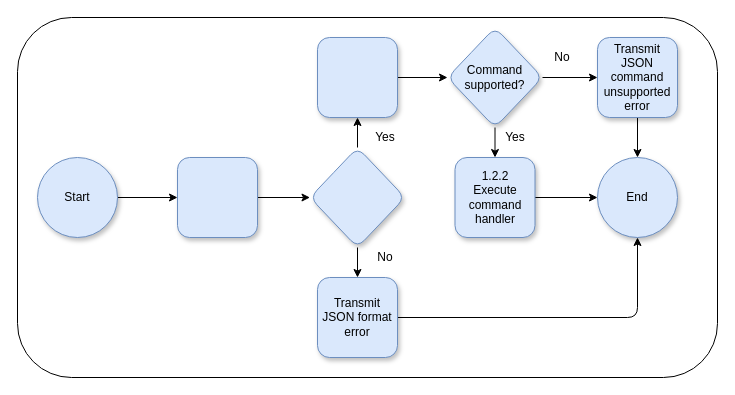
This 735x395 diagram has some shape labels left out. The shapes that lost their labels are listed below. From the top down, each one's centre as x and y in pixels, then its label:
point (358, 78): 1.2.1 Check if command supported
point (218, 198): 1.2.0 Parse command string as JSON
point (358, 198): Command string is valid JSON?
